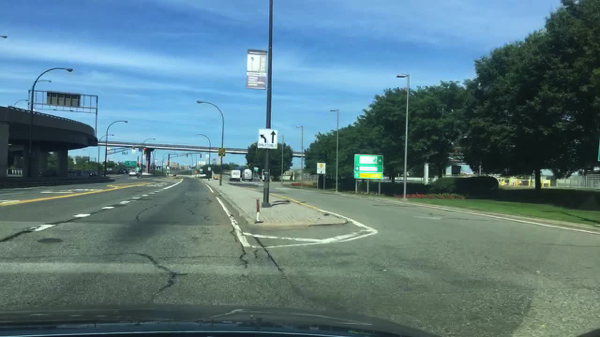car: (87, 171, 97, 178), (116, 169, 125, 175), (128, 170, 136, 176)
traffic light: (142, 148, 147, 155)
traffic sign: (353, 153, 383, 181), (46, 90, 79, 108), (258, 128, 277, 148), (315, 162, 327, 175), (123, 160, 136, 167), (218, 147, 226, 157)
truck: (228, 169, 241, 182), (241, 169, 251, 181)
